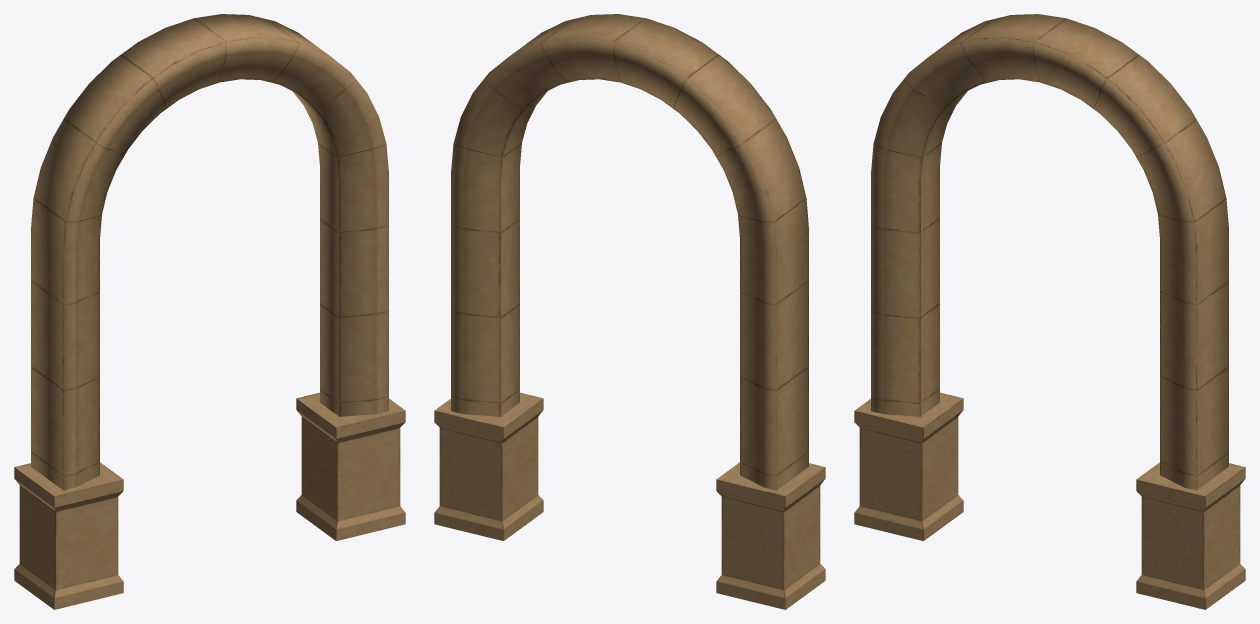
File: TatuterraTemple_Past_Arch.fbx
3 views of the same model, side by side, from view 1: azimuth 30°, elevation 25°; view 2: azimuth 150°, elevation 25°; view 3: azimuth 330°, elevation 25° (orthographic).
Parts seen in each view (by area): view 1: TatuterraTemple_Past_Arch; view 2: TatuterraTemple_Past_Arch; view 3: TatuterraTemple_Past_Arch.
Boxes of the visible parts, x1=… form: TatuterraTemple_Past_Arch: x1=14, y1=14, x2=405, y2=609; TatuterraTemple_Past_Arch: x1=434, y1=14, x2=825, y2=609; TatuterraTemple_Past_Arch: x1=854, y1=14, x2=1245, y2=609.
Size of the model in its own units: 648 by 920 by 128.
